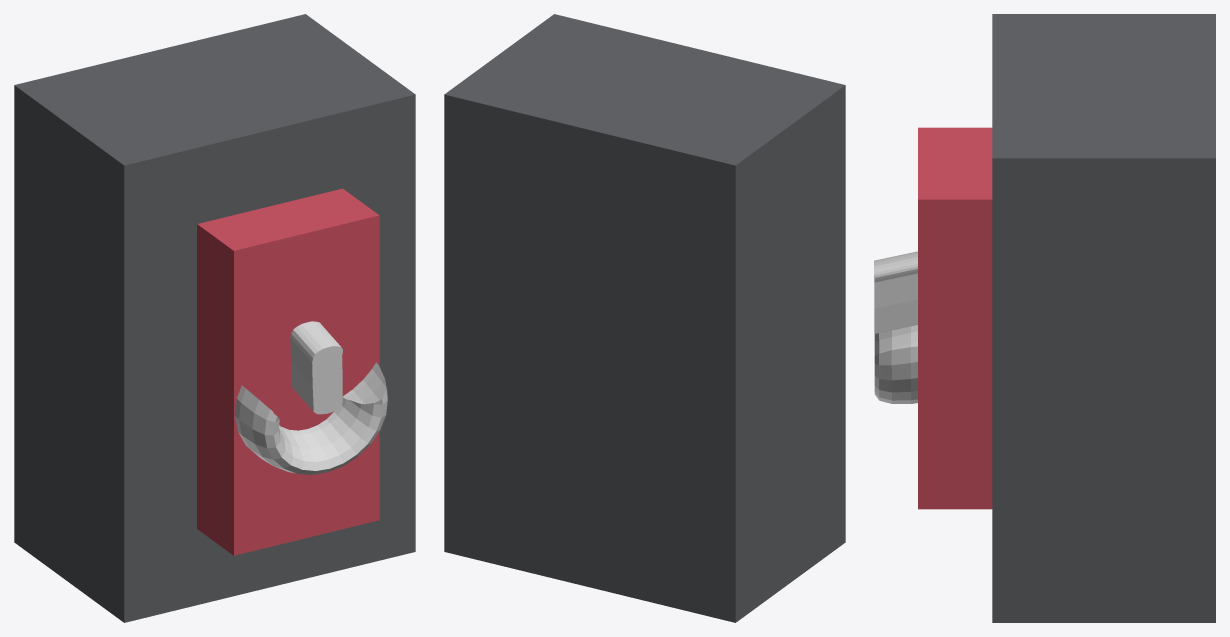
Rendered from switch.glb.
3 views of the same model, side by side, from view 1: azimuth 30°, elevation 25°; view 2: azimuth 150°, elevation 25°; view 3: azimuth 270°, elevation 25° (orthographic).
Parts seen in each view (by area): view 1: Mesh_Mesh_head_geo.001_lambert2SG.001; view 2: Mesh_Mesh_head_geo.001_lambert2SG.001; view 3: Mesh_Mesh_head_geo.001_lambert2SG.001.
Boxes of the visible parts, x1,y1,x2,y2 form: Mesh_Mesh_head_geo.001_lambert2SG.001: (14,14,415,622); Mesh_Mesh_head_geo.001_lambert2SG.001: (444,14,845,622); Mesh_Mesh_head_geo.001_lambert2SG.001: (874,14,1215,622).
Bounding box in the file's own units: 4 × 6 × 4.
